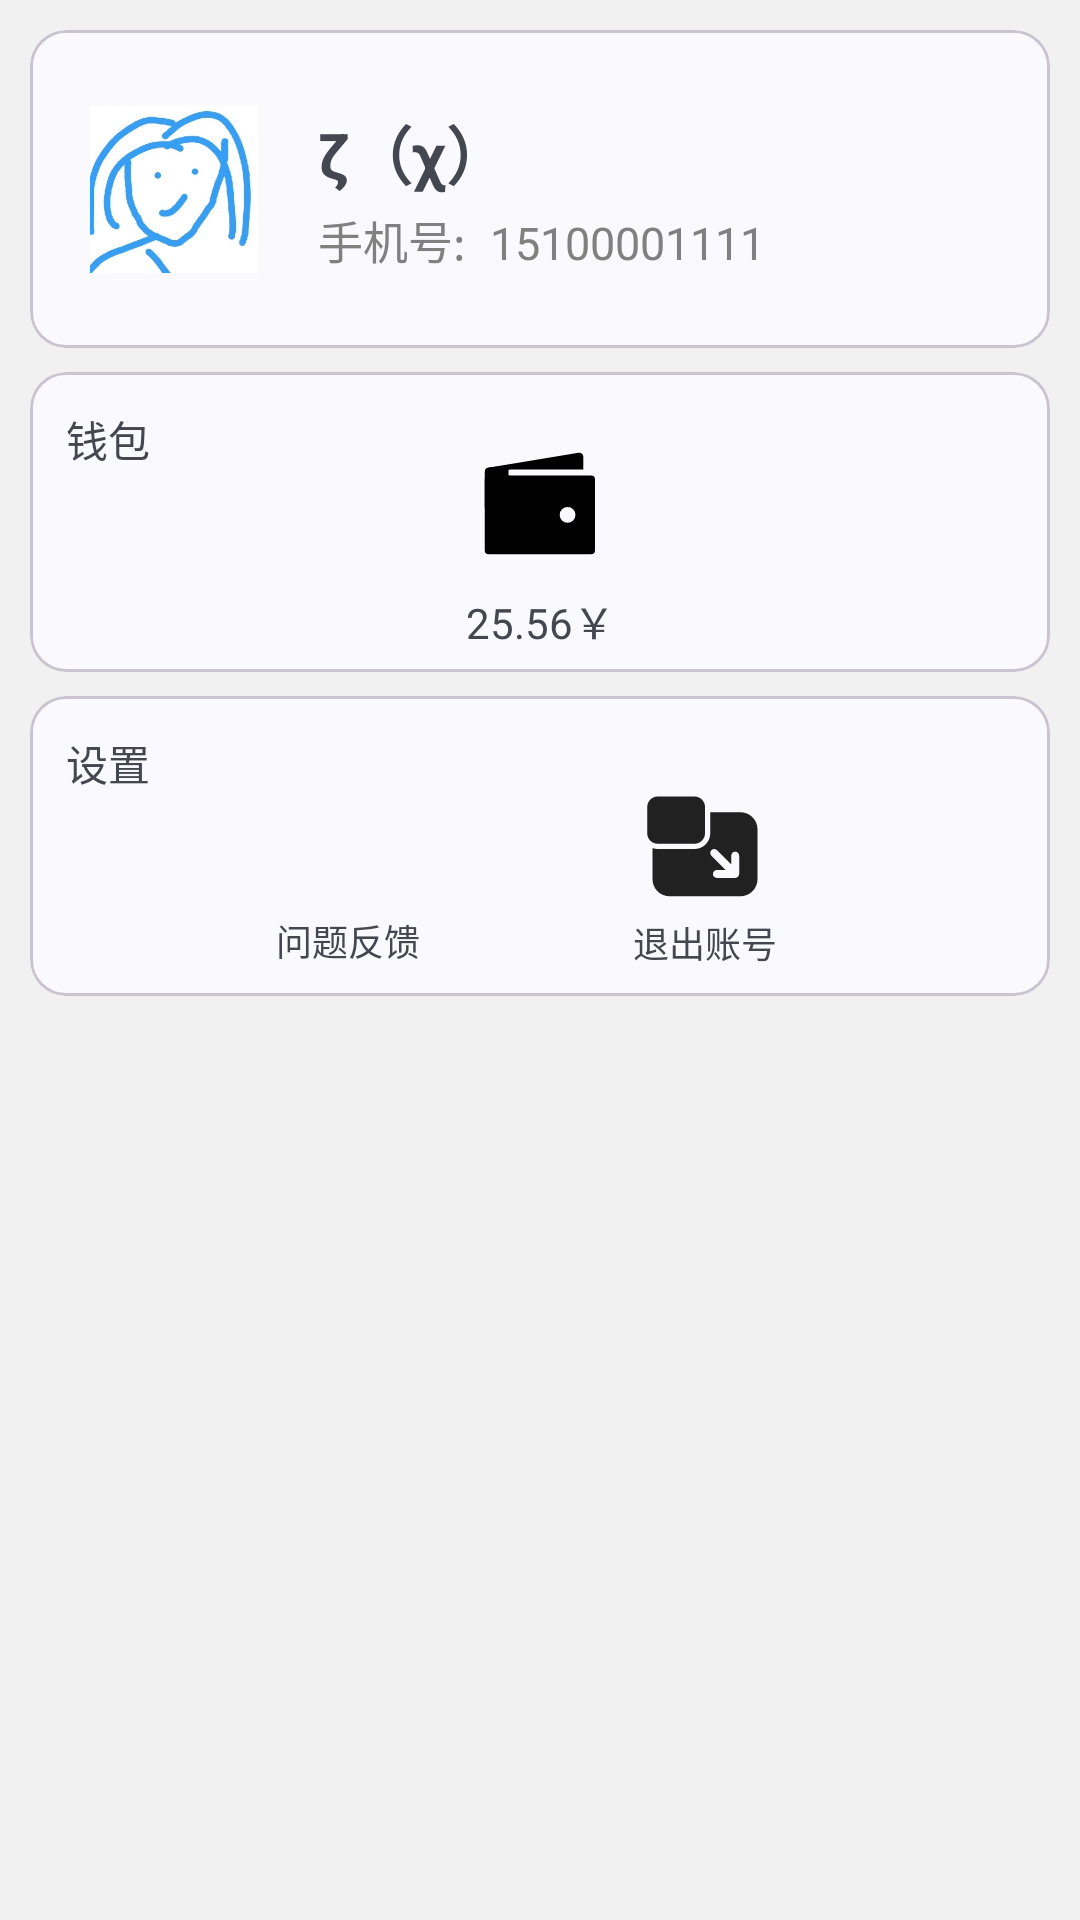

Where icons sit on this 1080×1920 app screen, as (x1, y1, x2, y2):
user wallet: (484, 452, 595, 555)
